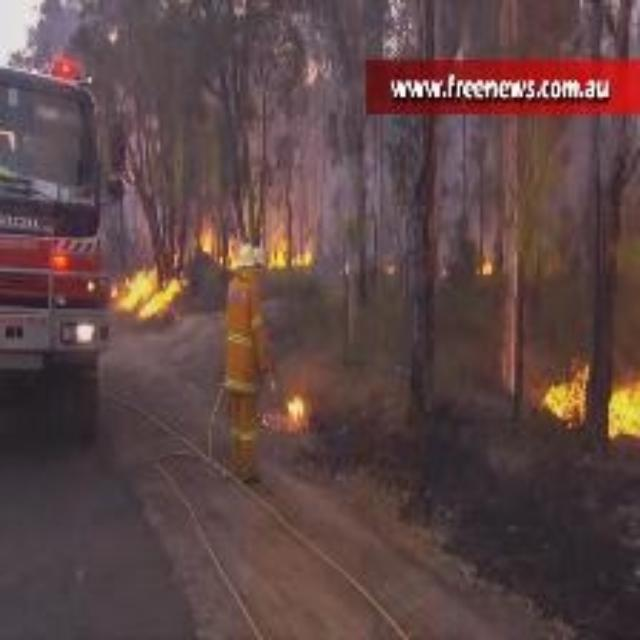fire: (191, 203, 309, 269), (543, 369, 634, 437), (111, 251, 183, 317), (283, 389, 314, 426), (477, 254, 497, 277)
